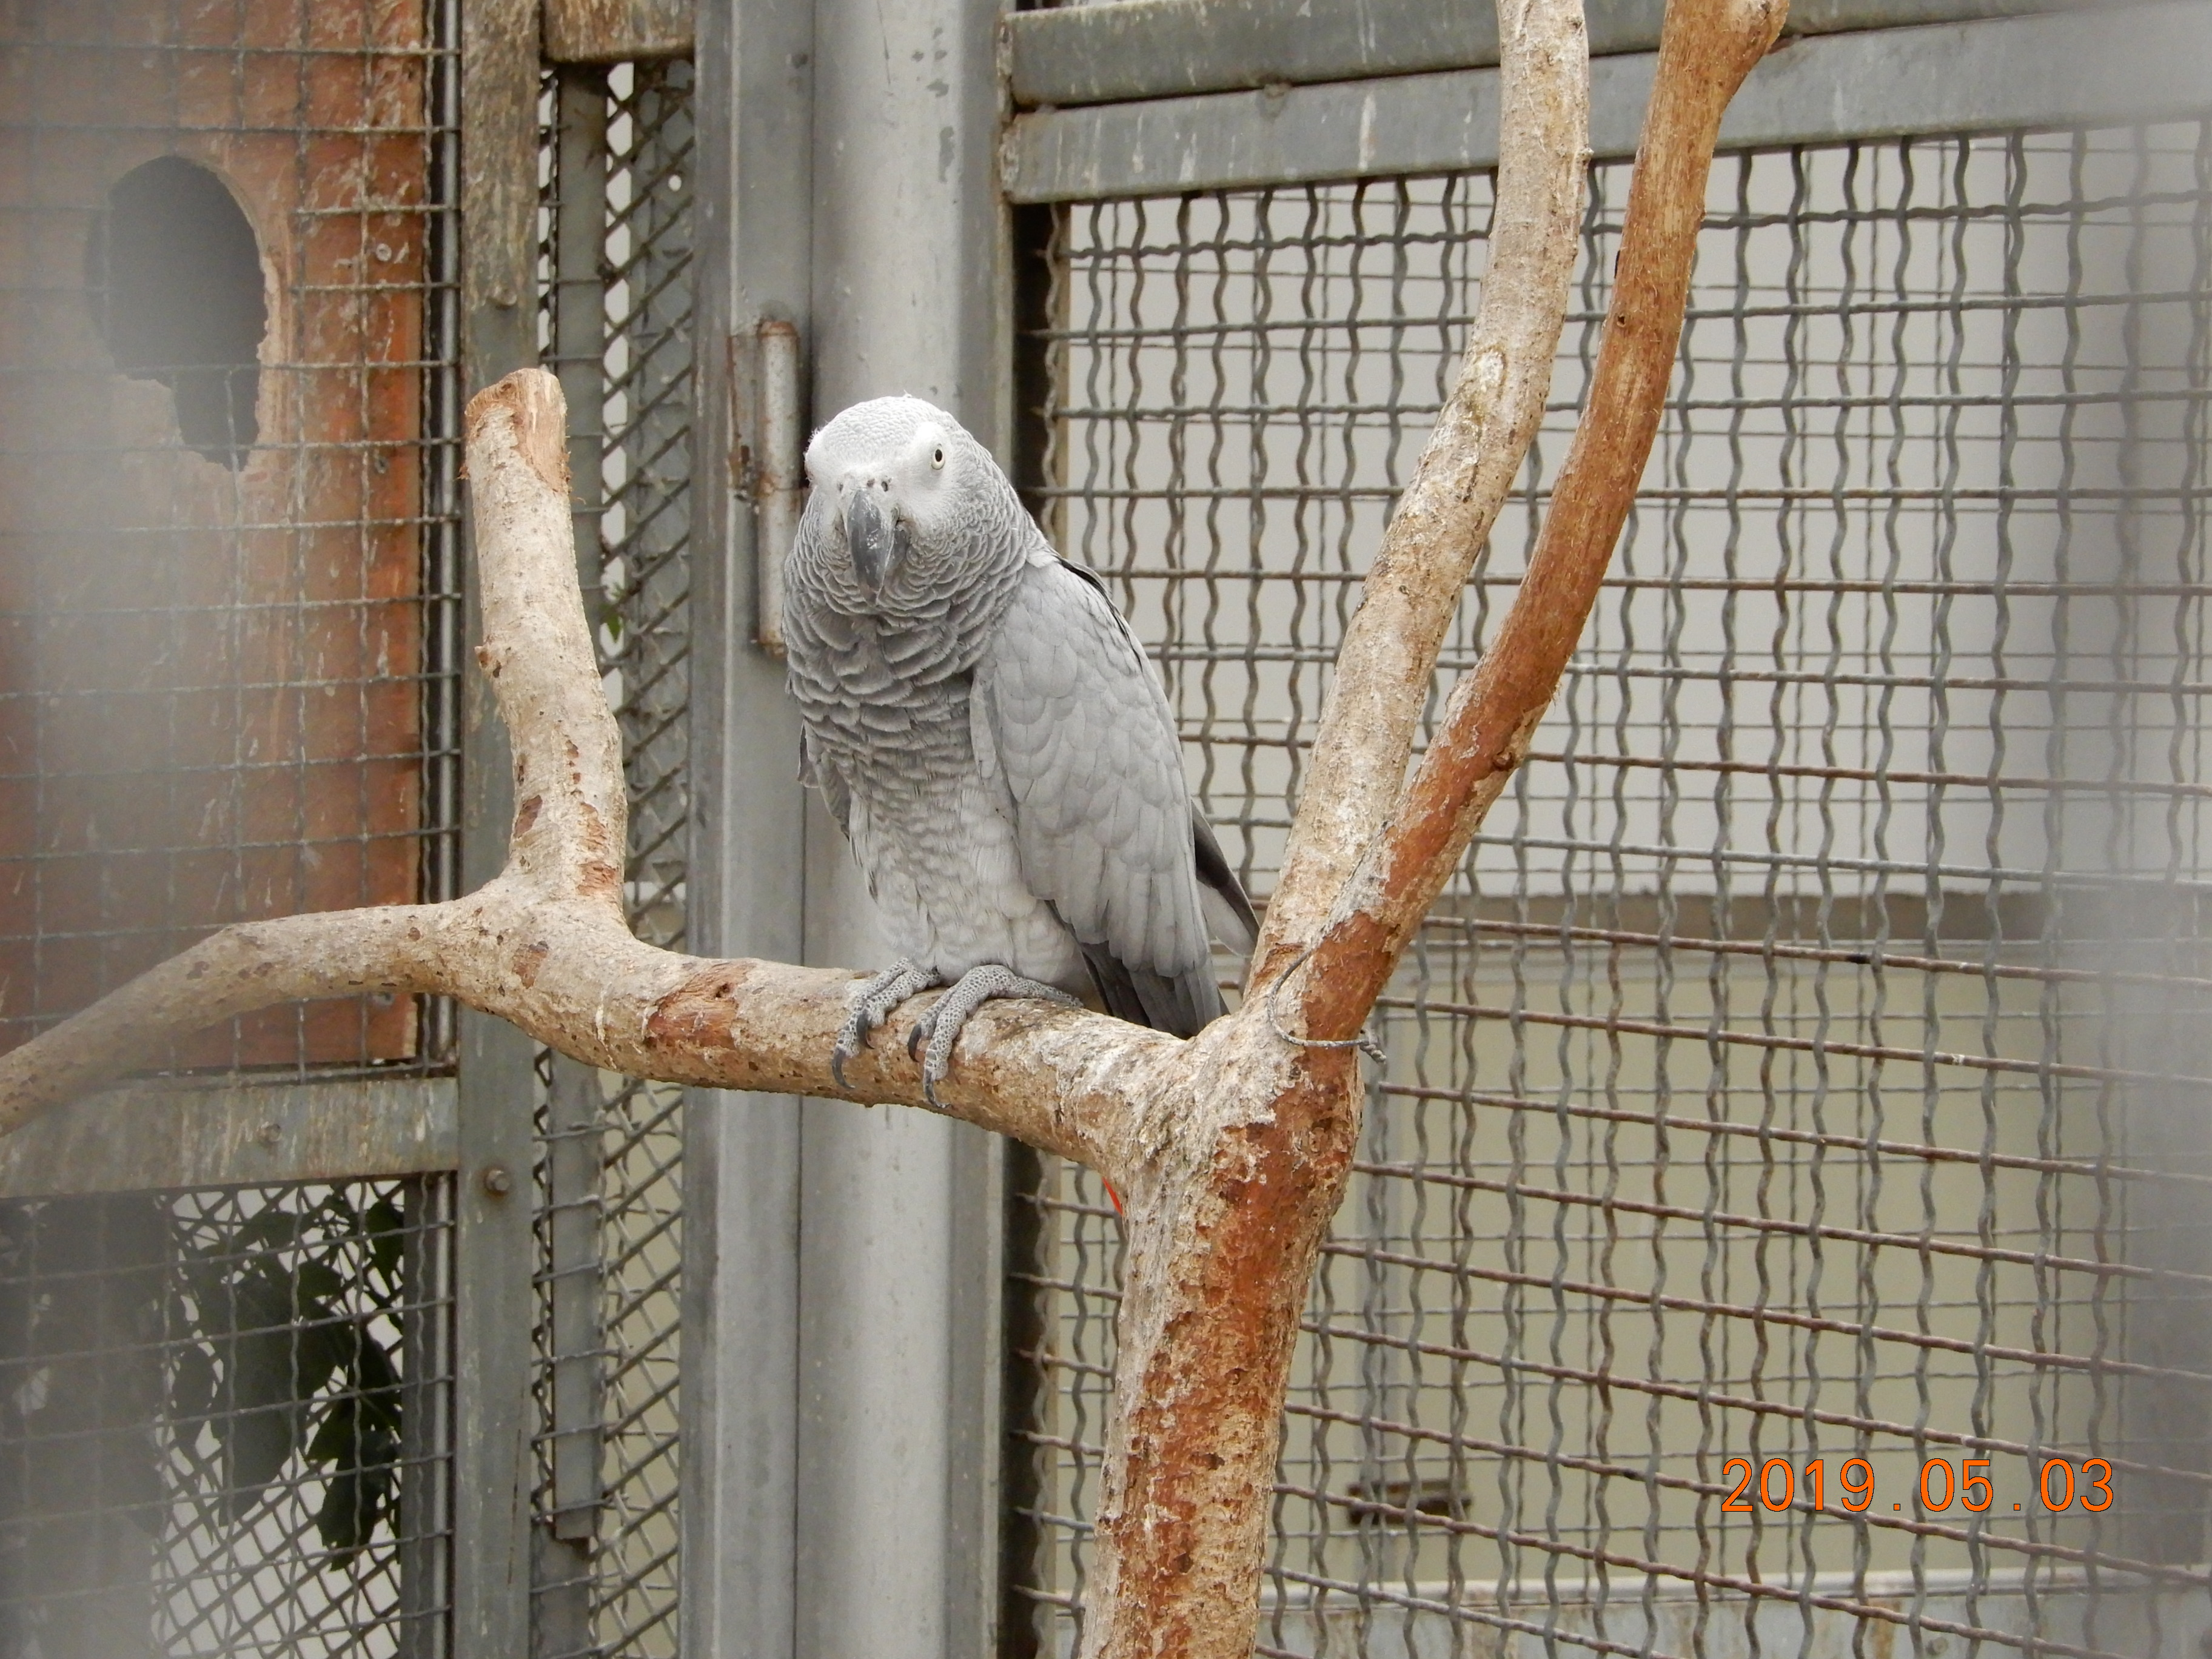Psittacus erithacus: (775, 390, 1270, 1073)
